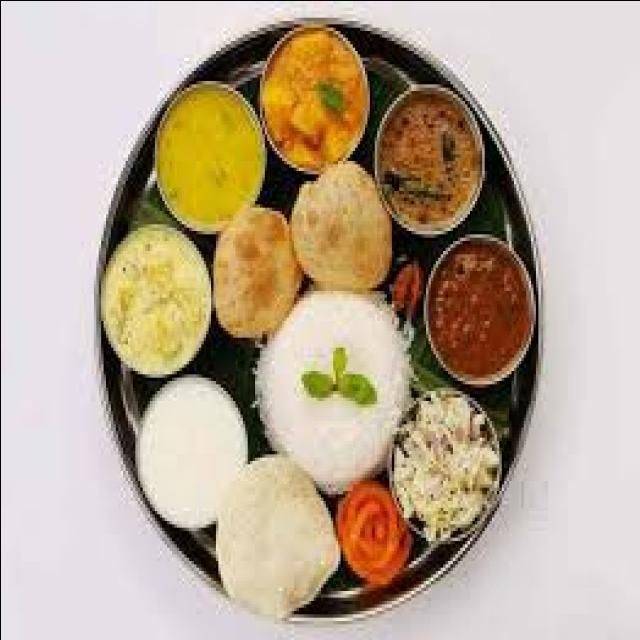dal: (153, 87, 265, 217)
papad: (288, 161, 394, 293)
rice: (250, 288, 416, 474), (392, 388, 503, 546), (290, 161, 392, 291)
sambar-rasam: (424, 235, 530, 377)
sweet: (130, 374, 249, 522)
veg-fry: (254, 19, 372, 169)
